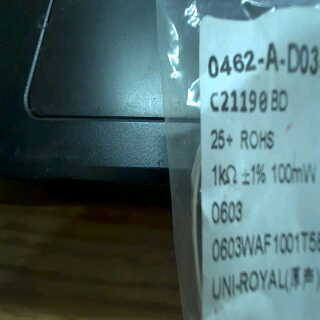1kR: (202, 159, 241, 194)
